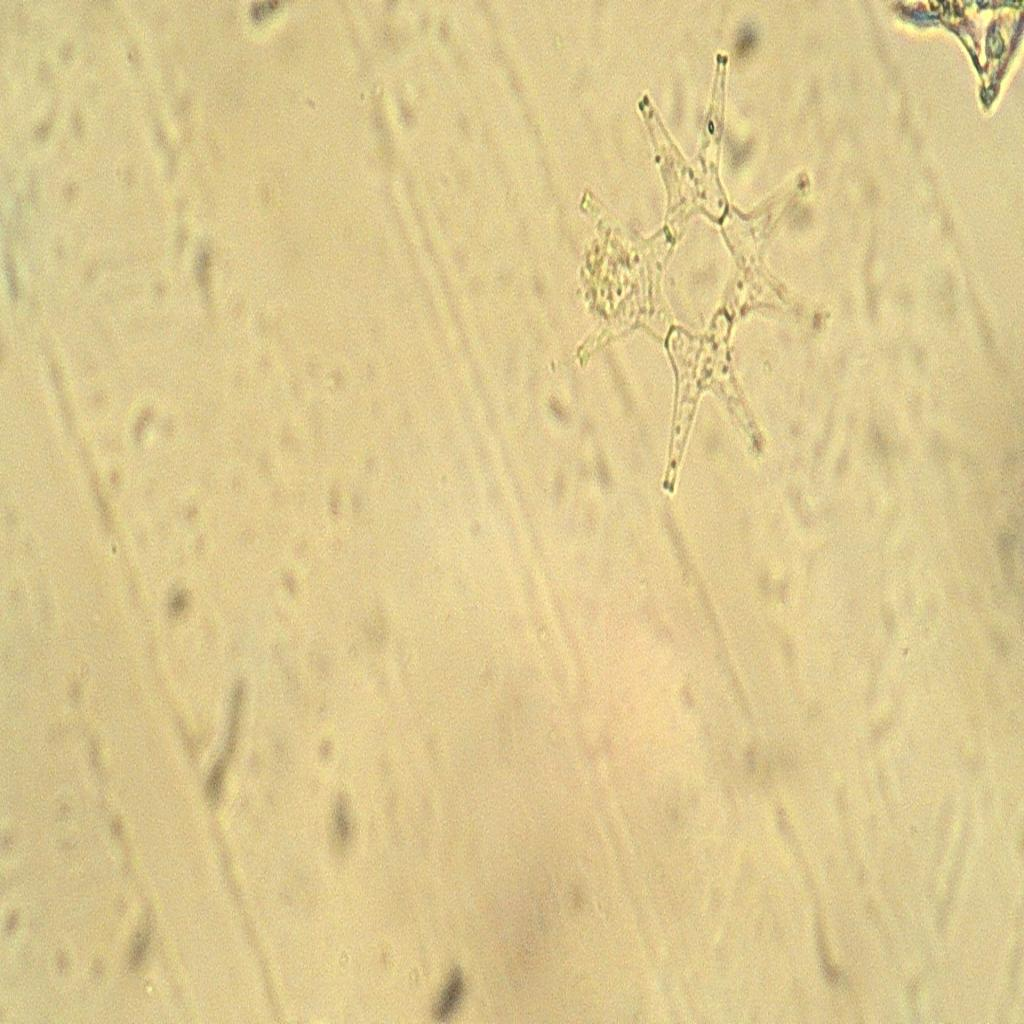Pediastrum_75TH: (565, 23, 842, 526)
